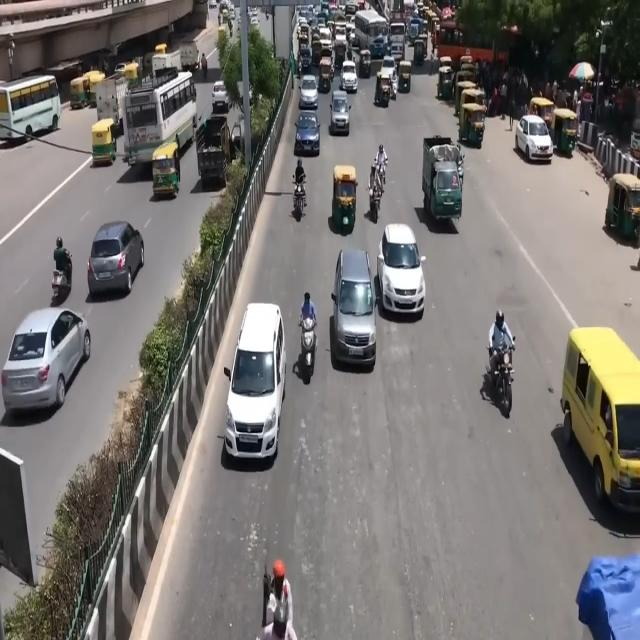auto: (560, 331, 640, 513), (605, 172, 640, 241), (331, 164, 358, 231), (152, 141, 180, 197), (551, 107, 579, 156), (91, 118, 118, 168), (459, 101, 486, 150), (69, 76, 90, 110), (374, 69, 392, 107), (318, 54, 334, 93), (438, 62, 454, 100), (397, 60, 412, 94), (539, 103, 555, 133), (358, 48, 371, 78), (413, 35, 426, 65)
bike-auto: (486, 336, 515, 416), (298, 311, 317, 377), (368, 165, 386, 223), (53, 236, 72, 289), (299, 292, 316, 332), (292, 175, 307, 220), (375, 143, 388, 186), (294, 158, 306, 189), (201, 52, 207, 79), (218, 14, 221, 26)
